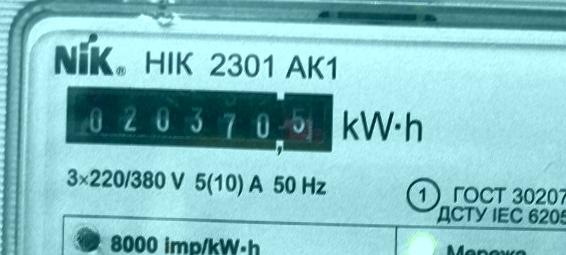0: (253, 111, 271, 142), (86, 105, 103, 134), (154, 105, 169, 133)
2: (120, 104, 138, 135)
3: (187, 104, 203, 135)
5: (289, 105, 307, 136)
7: (220, 111, 235, 142)
screen: (57, 80, 341, 162)
